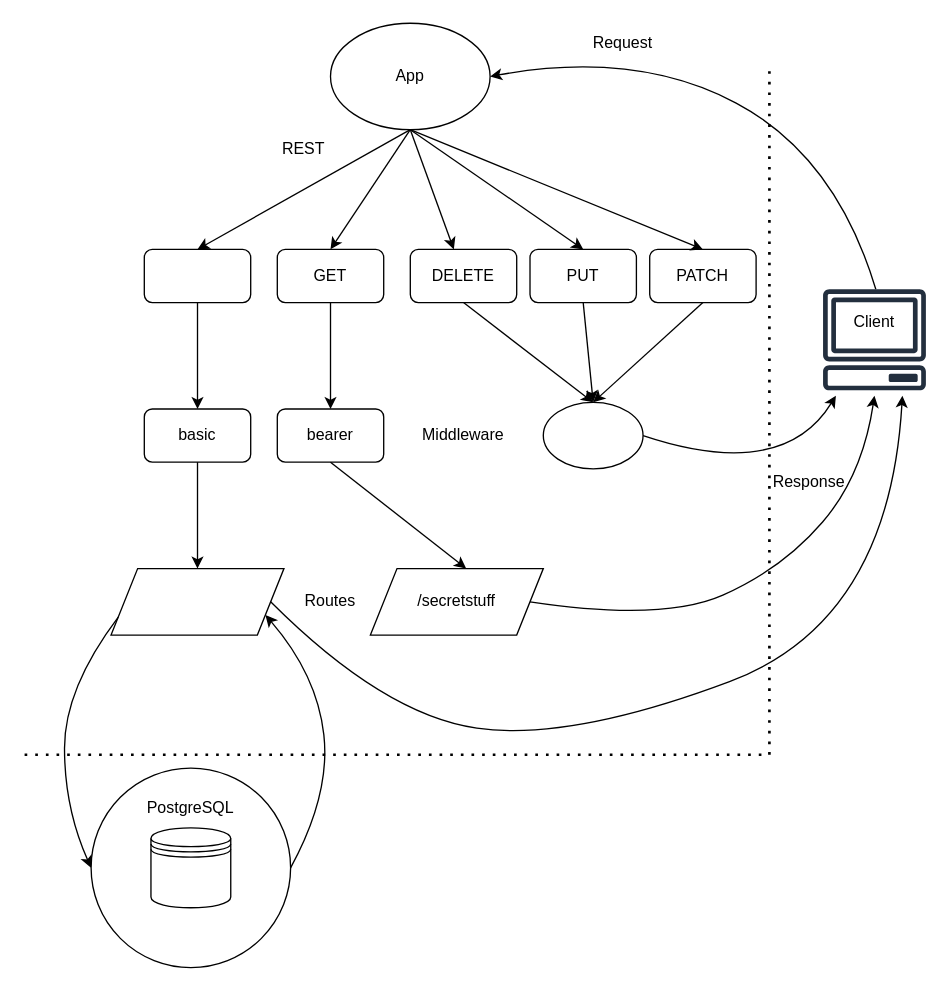
This 948x991 diagram has some shape labels left out. Each missing label, with the centre of its shape:
Error-handler: (x=592, y=435)
POST: (x=197, y=275)
user routes /signup /signin: (x=197, y=601)
users table: (x=190, y=867)
